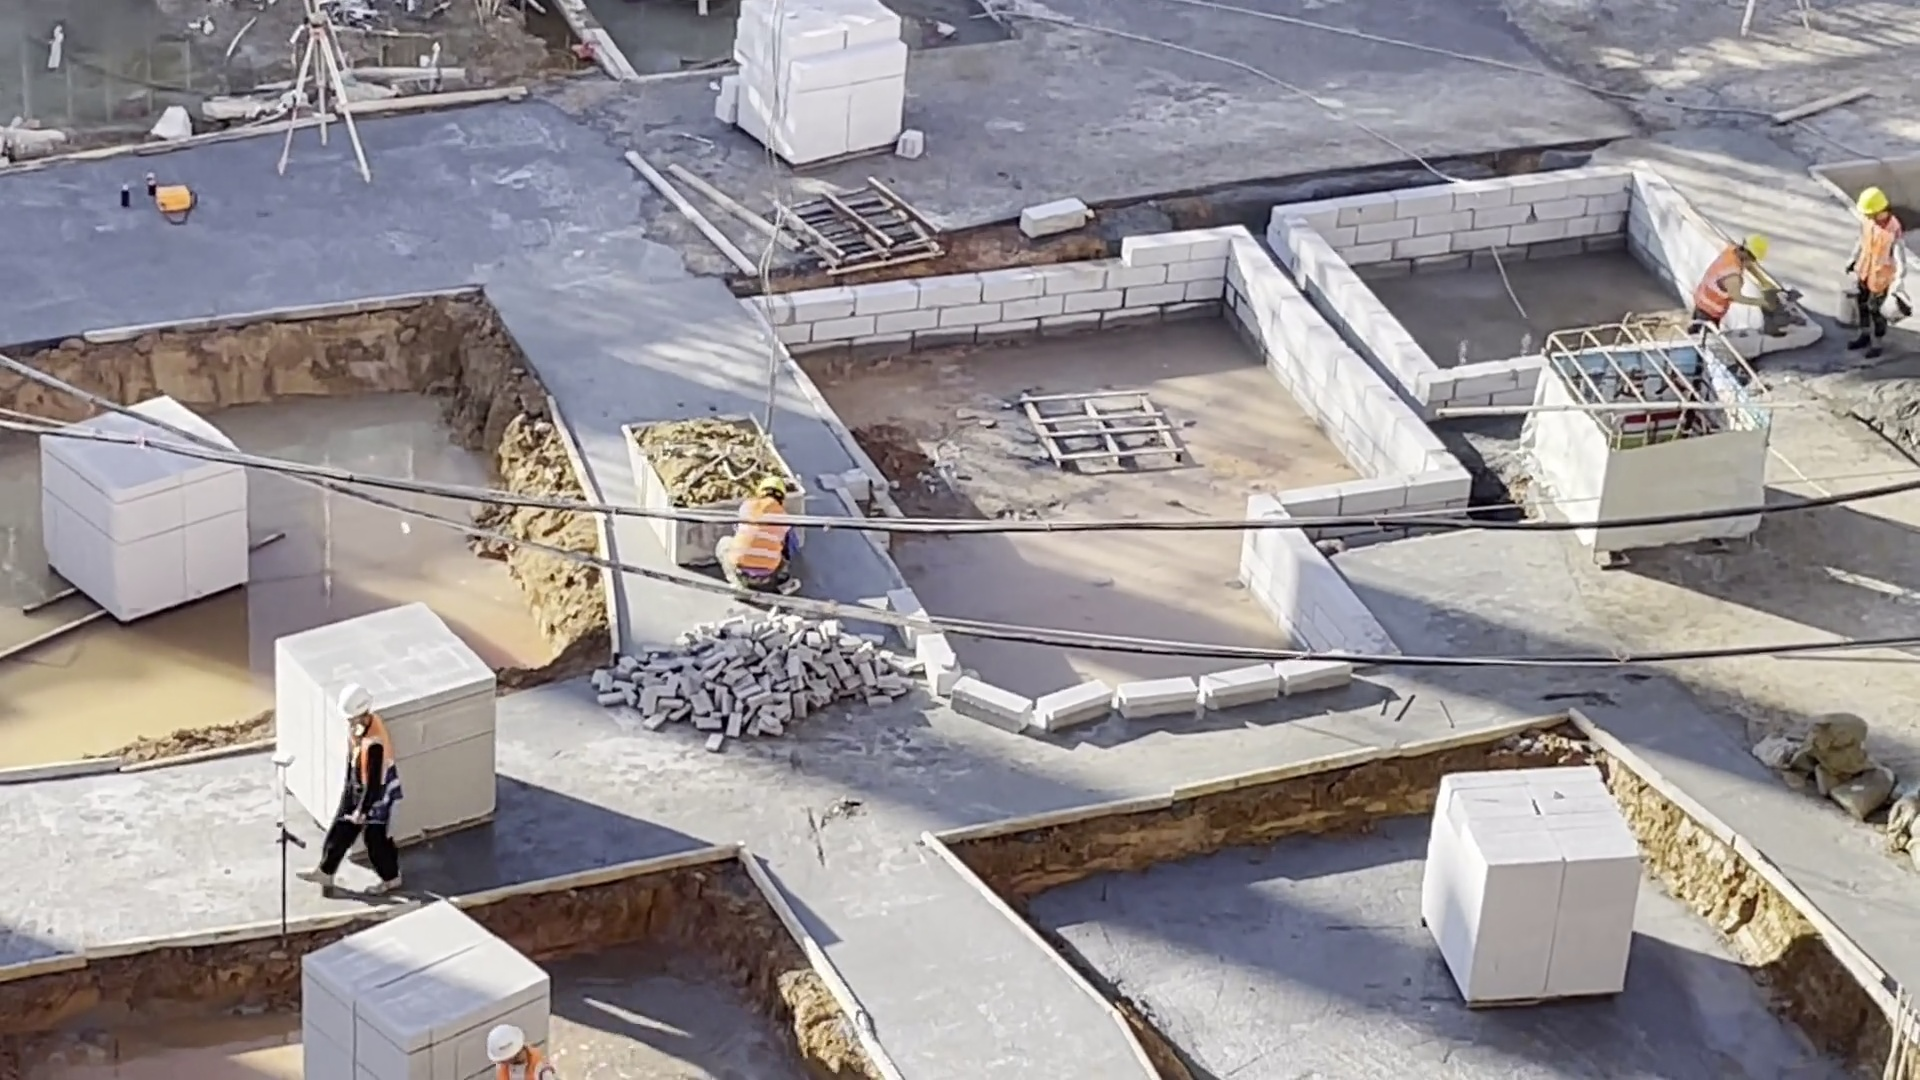helmet: (484, 1024, 529, 1061), (335, 680, 374, 719), (1853, 188, 1893, 216), (1741, 231, 1768, 262), (756, 474, 790, 498)
person: (289, 679, 410, 898), (1838, 185, 1907, 362), (710, 476, 812, 595), (1691, 231, 1781, 331), (484, 1015, 558, 1080)
vest: (354, 724, 407, 825), (1692, 247, 1745, 318), (1854, 216, 1902, 295), (726, 526, 791, 572)
